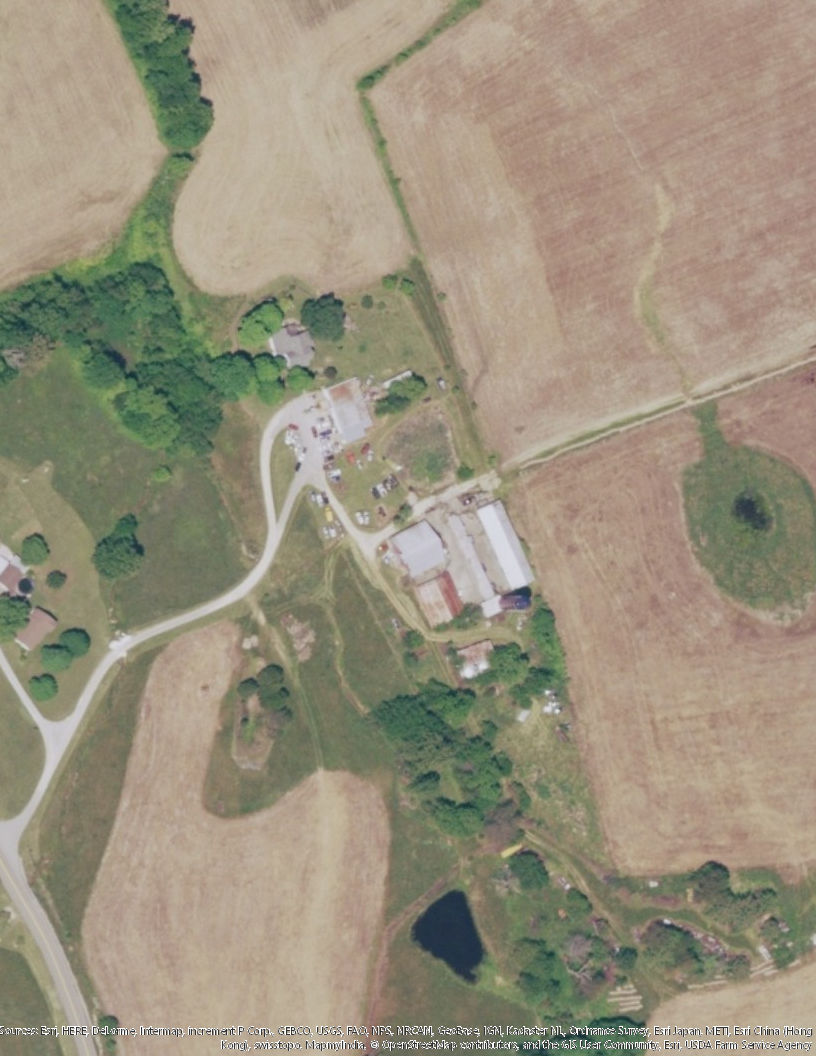cafo: (477, 497, 538, 590)
